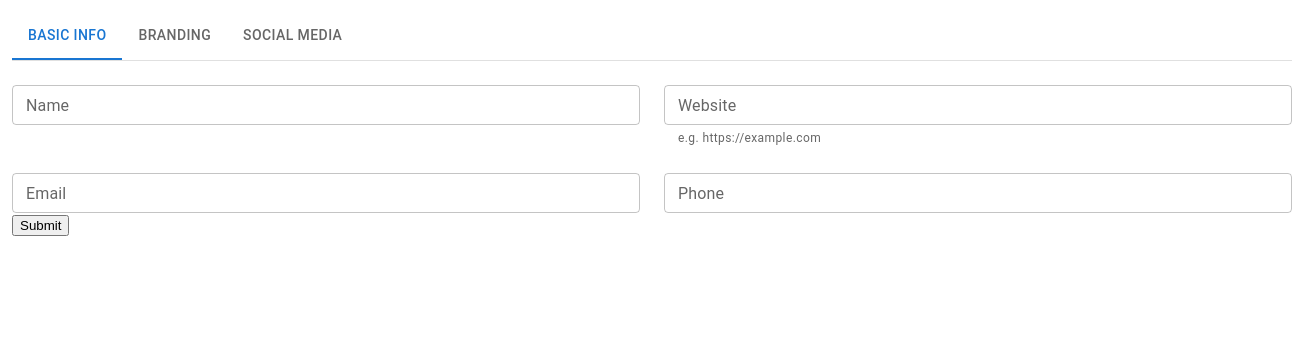
Test: SponsorForm › renders all three tabs, none disabled, and all reachable, when created fresh (no initialValues)
The width and height of the screenshot is (1304, 340).
Expected: the tab "Basic Info" is enabled, [12,12,122,60]
Expected: the tab "Social Media" is enabled, [227,12,358,60]
Click the tab "Branding": click(175, 36) [122,12,227,60]
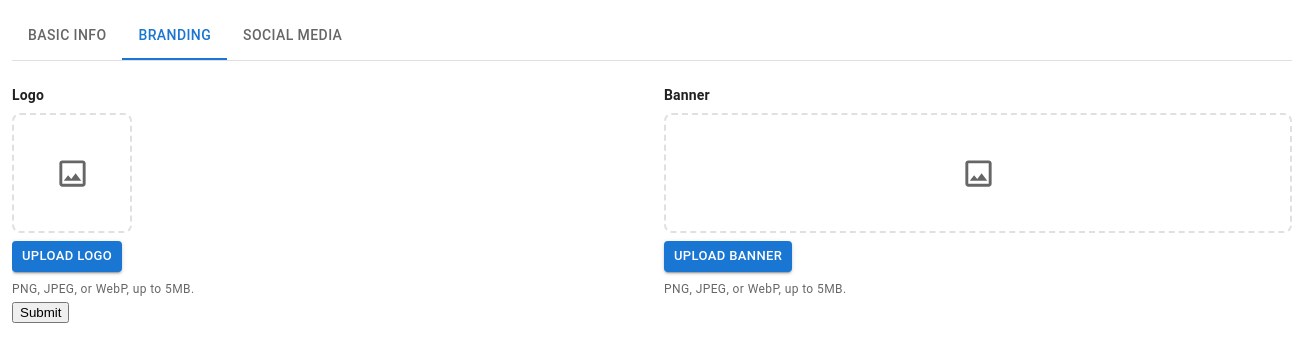
Expected: the text "Logo" is shown, [12,87,44,103]
Expected: the text "Banner" is shown, [664,87,710,103]
Click the tab "Social Media": click(293, 36) [227,12,358,60]
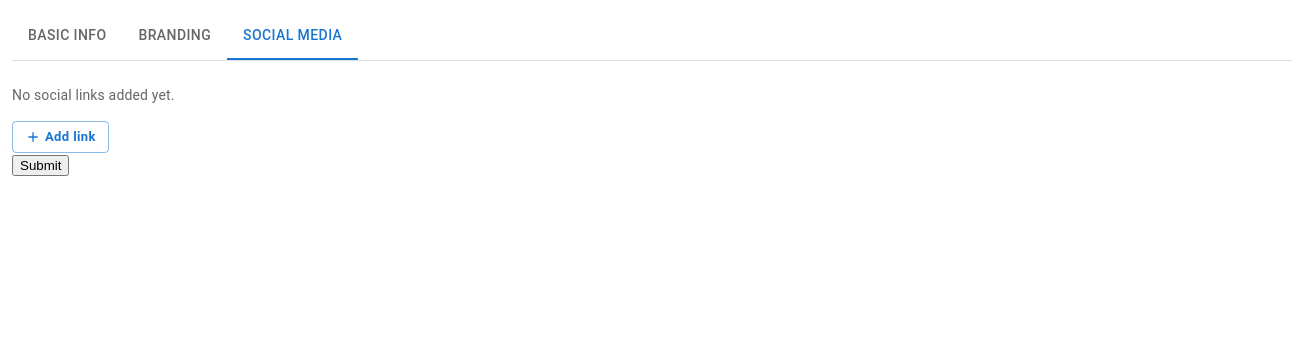
Expected: the text "No social links added yet." is shown, [12,87,174,103]
